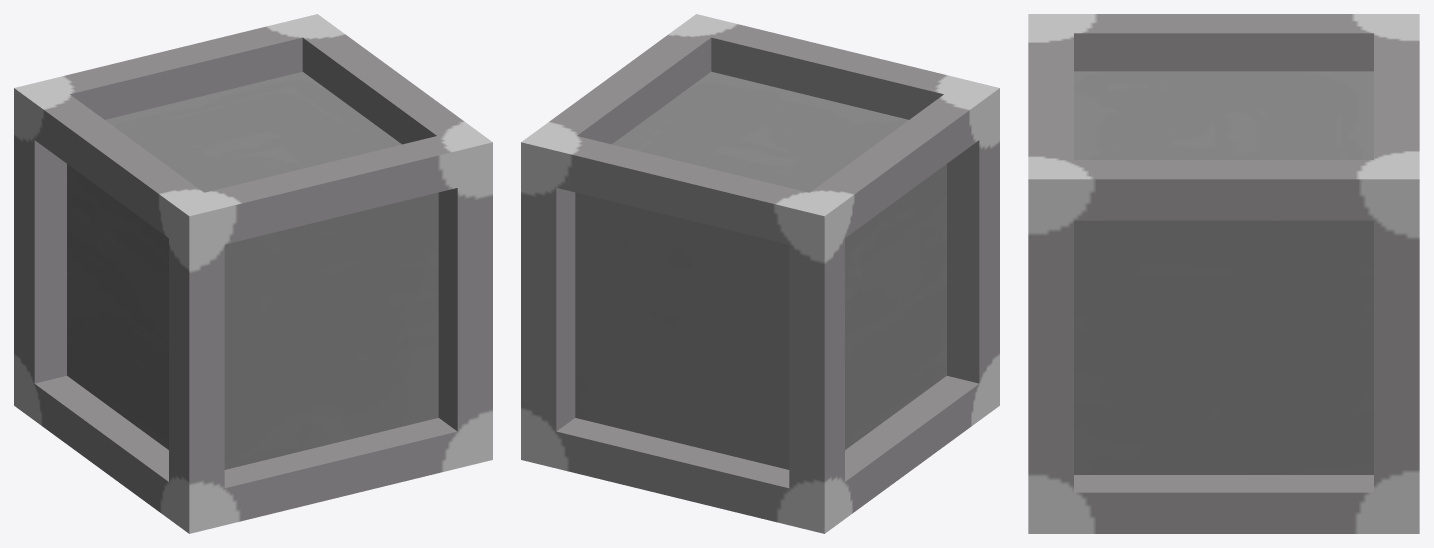
File: demir_kutu.fbx
The picture shows the model from 3 angles, left to right: view 1: azimuth 30°, elevation 25°; view 2: azimuth 150°, elevation 25°; view 3: azimuth 270°, elevation 25°; orthographic projection. The views are drawn at different scales.
Parts seen in each view (by area): view 1: kutu 2.001; view 2: kutu 2.001; view 3: kutu 2.001.
Part boxes in pixels (bbox=[...]): kutu 2.001: bbox=[14, 14, 492, 533]; kutu 2.001: bbox=[521, 14, 999, 533]; kutu 2.001: bbox=[1028, 14, 1419, 533].
Bounding box in the file's own units: 1.44 × 1.44 × 1.44.
Materials: 1 (1 with a texture image).
